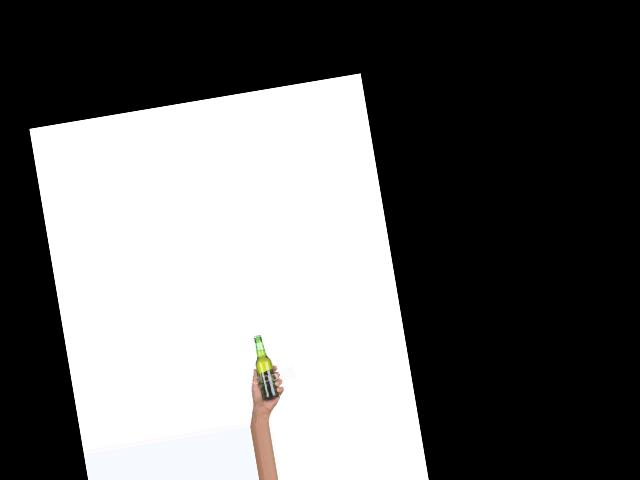beer: (250, 333, 278, 400)
